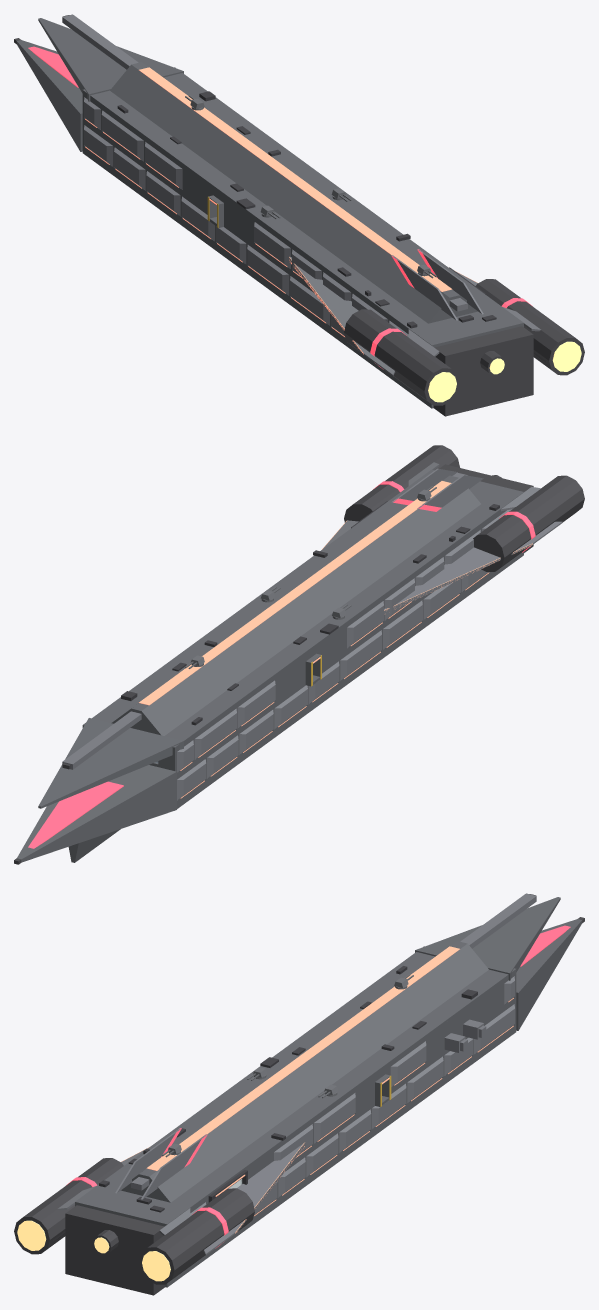
File: ship_SMALL_DROP_FRIGATE_v2.glb
3 renders of one model, top to bottom at view 1: azimuth 30°, elevation 25°; view 2: azimuth 150°, elevation 25°; view 3: azimuth 330°, elevation 25°, orthographic.
Visible parts, largest first — view 1: SMALL_DROP_FRIGATE_Hull-col, SMALL_DROP_FRIGATE_Armor, SMALL_DROP_FRIGATE_Engines, SMALL_DROP_FRIGATE_Lights, SMALL_DROP_FRIGATE_EngineGlow, SMALL_DROP_FRIGATE_Accent, SMALL_DROP_FRIGATE_Details; view 2: SMALL_DROP_FRIGATE_Hull-col, SMALL_DROP_FRIGATE_Armor, SMALL_DROP_FRIGATE_Engines, SMALL_DROP_FRIGATE_Lights, SMALL_DROP_FRIGATE_Accent, SMALL_DROP_FRIGATE_Details; view 3: SMALL_DROP_FRIGATE_Hull-col, SMALL_DROP_FRIGATE_Armor, SMALL_DROP_FRIGATE_Engines, SMALL_DROP_FRIGATE_Lights, SMALL_DROP_FRIGATE_EngineGlow, SMALL_DROP_FRIGATE_Accent, SMALL_DROP_FRIGATE_Details.
Boxes of the visible parts, x1,y1,x2,y2 form: SMALL_DROP_FRIGATE_Hull-col: [16, 18, 523, 408]; SMALL_DROP_FRIGATE_Armor: [62, 14, 540, 375]; SMALL_DROP_FRIGATE_Engines: [14, 15, 584, 416]; SMALL_DROP_FRIGATE_Lights: [85, 67, 477, 354]; SMALL_DROP_FRIGATE_EngineGlow: [428, 341, 581, 402]; SMALL_DROP_FRIGATE_Accent: [28, 46, 532, 369]; SMALL_DROP_FRIGATE_Details: [117, 91, 496, 328]; SMALL_DROP_FRIGATE_Hull-col: [17, 469, 523, 862]; SMALL_DROP_FRIGATE_Armor: [62, 462, 562, 800]; SMALL_DROP_FRIGATE_Engines: [14, 445, 584, 864]; SMALL_DROP_FRIGATE_Lights: [139, 481, 532, 798]; SMALL_DROP_FRIGATE_Accent: [28, 481, 535, 848]; SMALL_DROP_FRIGATE_Details: [121, 504, 499, 725]; SMALL_DROP_FRIGATE_Hull-col: [75, 897, 582, 1287]; SMALL_DROP_FRIGATE_Armor: [58, 893, 536, 1254]; SMALL_DROP_FRIGATE_Engines: [14, 894, 584, 1295]; SMALL_DROP_FRIGATE_Lights: [121, 946, 513, 1233]; SMALL_DROP_FRIGATE_EngineGlow: [17, 1220, 170, 1281]; SMALL_DROP_FRIGATE_Accent: [66, 925, 570, 1248]; SMALL_DROP_FRIGATE_Details: [99, 966, 477, 1212].
Bounding box in the file's own units: 25.51 × 16.45 × 127.
